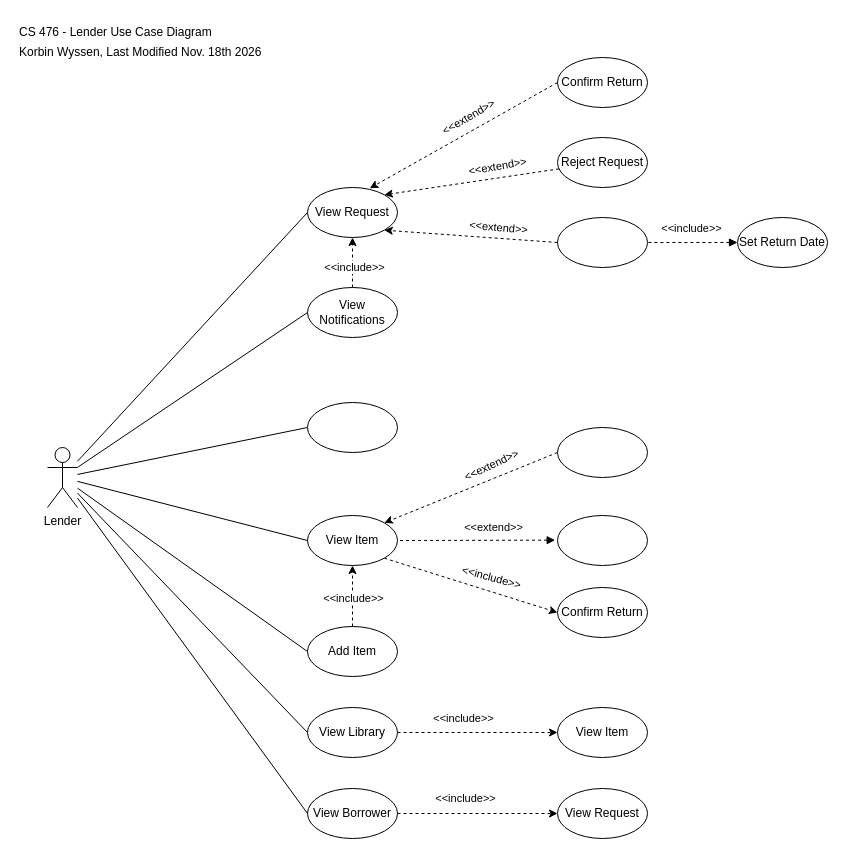
Some shapes in this 845 by 856 pixel diagram are drawn without their labels. Here are the shapes that lost their labels. From the top down, the centre of each, then its label:
At (602,242): "Accept Request".
At (352,427): "Login to service".
At (602,452): "Edit Item".
At (602,540): "Delete Item".
